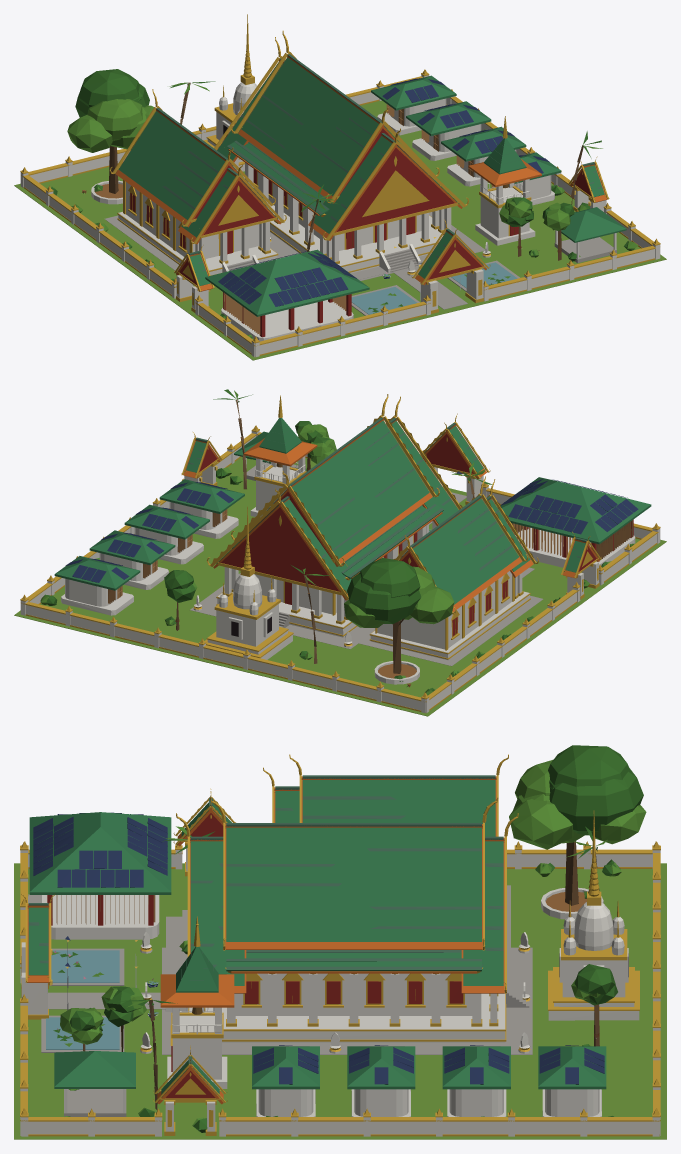
The model's file is temple_3.glb.
3 renders of one model, top to bottom at view 1: azimuth 30°, elevation 25°; view 2: azimuth 150°, elevation 25°; view 3: azimuth 270°, elevation 25°, orthographic. The views are drawn at different scales.
Parts seen in each view (by area): view 1: body; view 2: body; view 3: body.
Boxes of the visible parts, x1,y1,x2,y2 form: body: (14, 14, 666, 360); body: (14, 389, 666, 716); body: (14, 745, 666, 1139).
Size of the model in its own units: 47.9 by 16.79 by 47.9.
